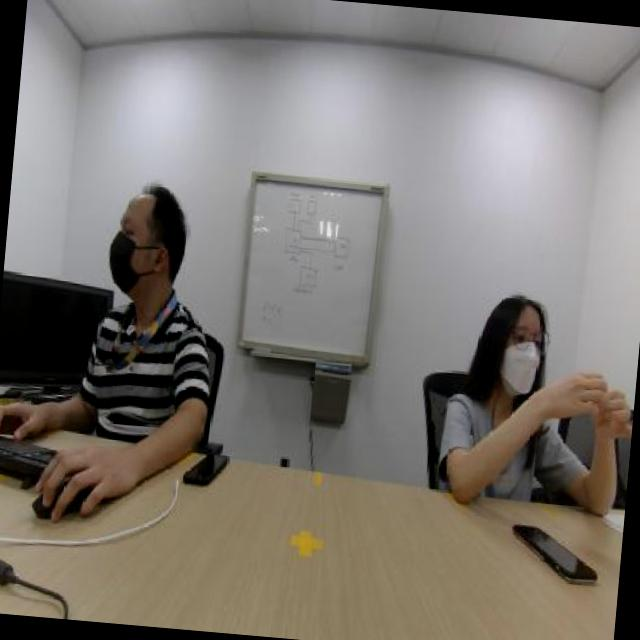Person: (47, 140, 242, 454), (427, 228, 629, 498)
